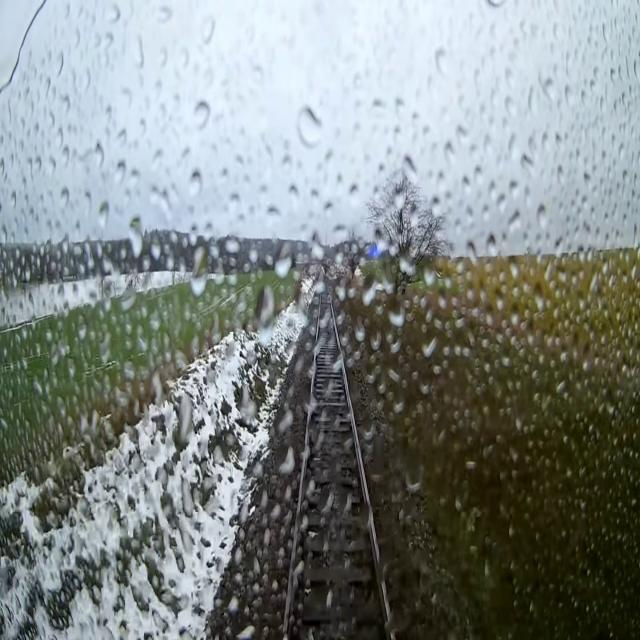rail-track: (287, 281, 391, 639)
